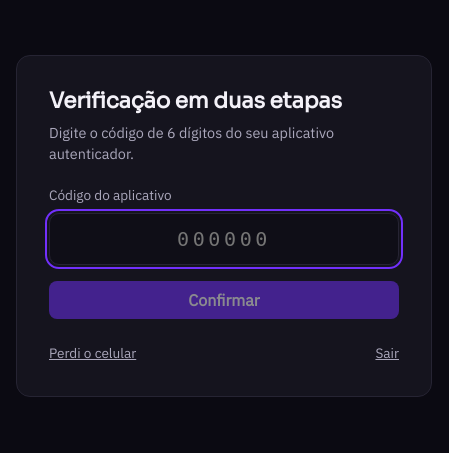
Test: perdi o celular › código de recuperação inválido mostra a mensagem do servidor
Click the button "Perdi o celular" at coordinates (93, 353), box [49, 342, 136, 364]
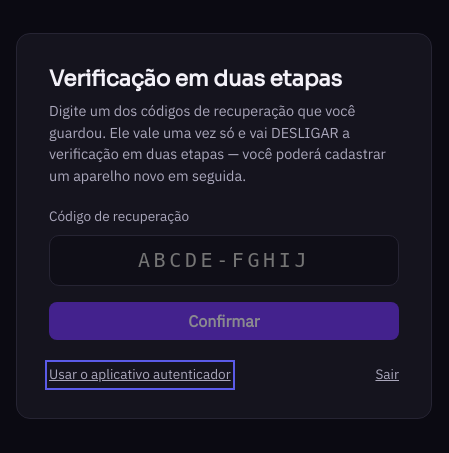
Type "ZZZZZ-ZZZZZ" into the field labelled "Código de recuperação" at coordinates (224, 260), box [49, 235, 399, 286]
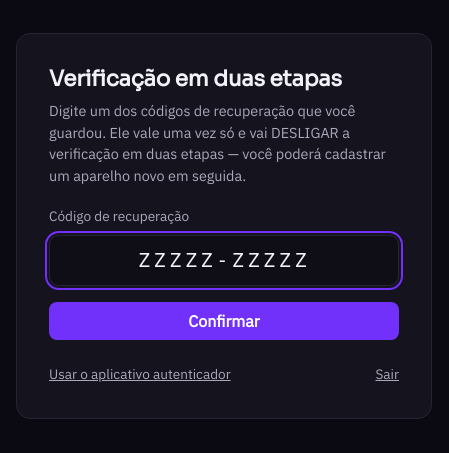
Click the button "Confirmar" at coordinates (224, 321), box [49, 302, 399, 340]
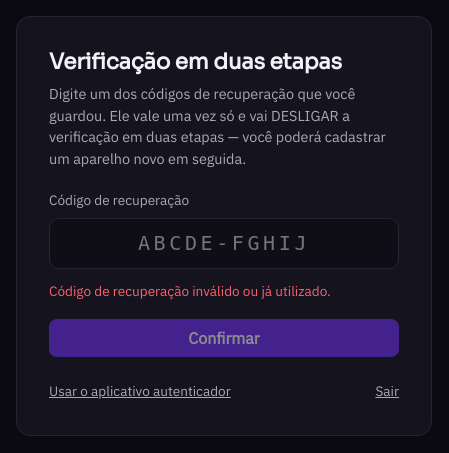
Check: the message reads "Código de recuperação inválido ou já utilizado.", box [49, 282, 331, 300]
